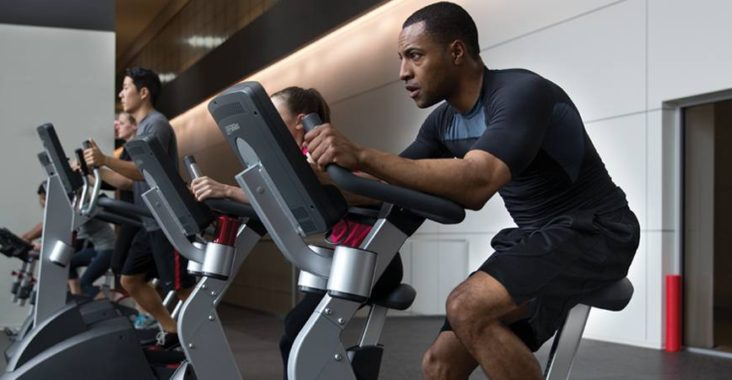gym_bike: (202, 99, 593, 380)
